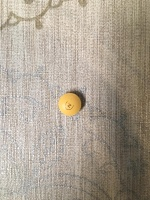Nurofen: (57, 91, 82, 118)
